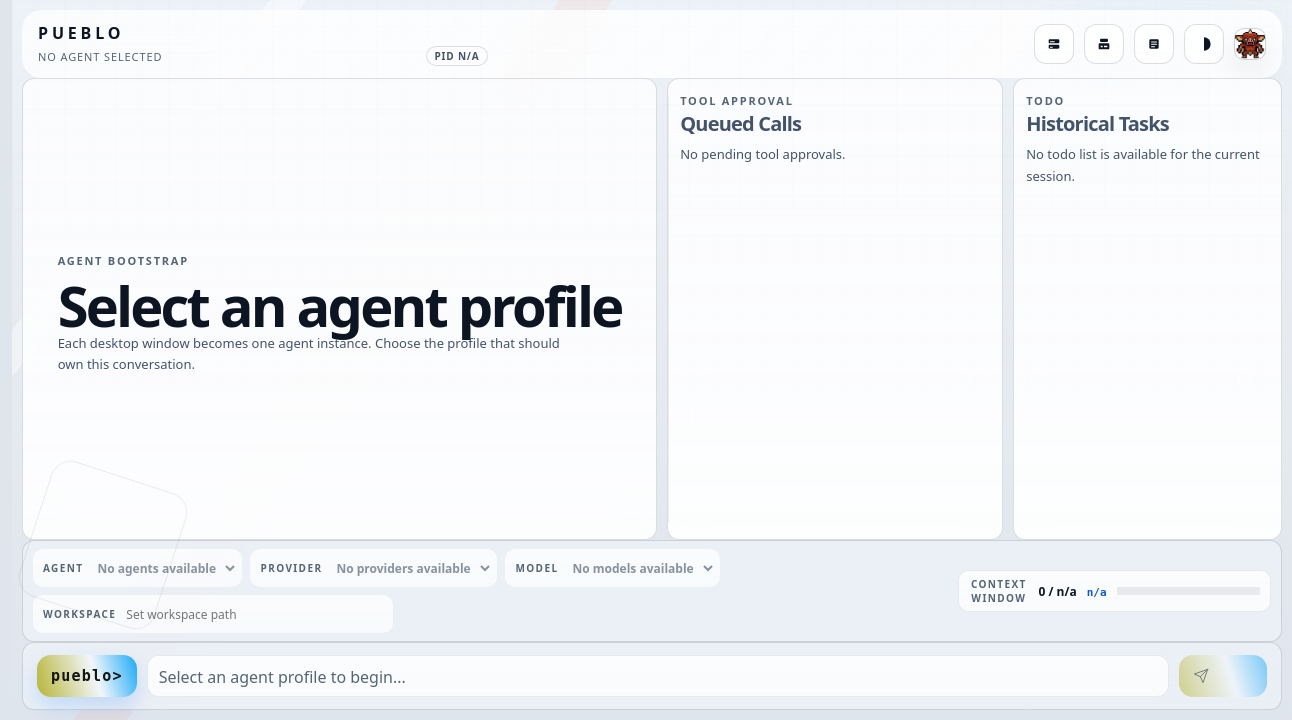
it: Desktop Renderer › lets the user close and reopen the session sidebar from the top toolbar
Click the button named "Show session sidebar" at point(1054, 44), box [1034, 24, 1074, 64]
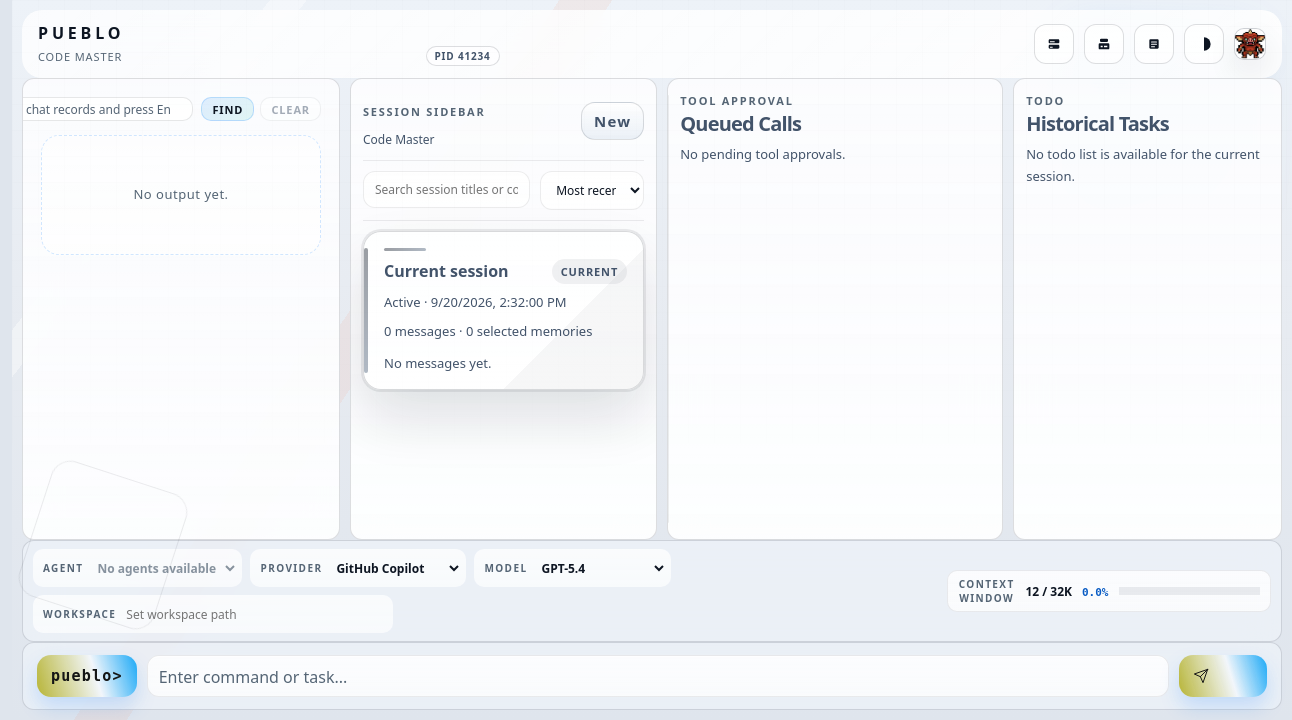
Check: the heading "Current session" is shown, box [384, 260, 509, 282]
Click the button named "Hide session sidebar" at point(1054, 44), box [1034, 24, 1074, 64]
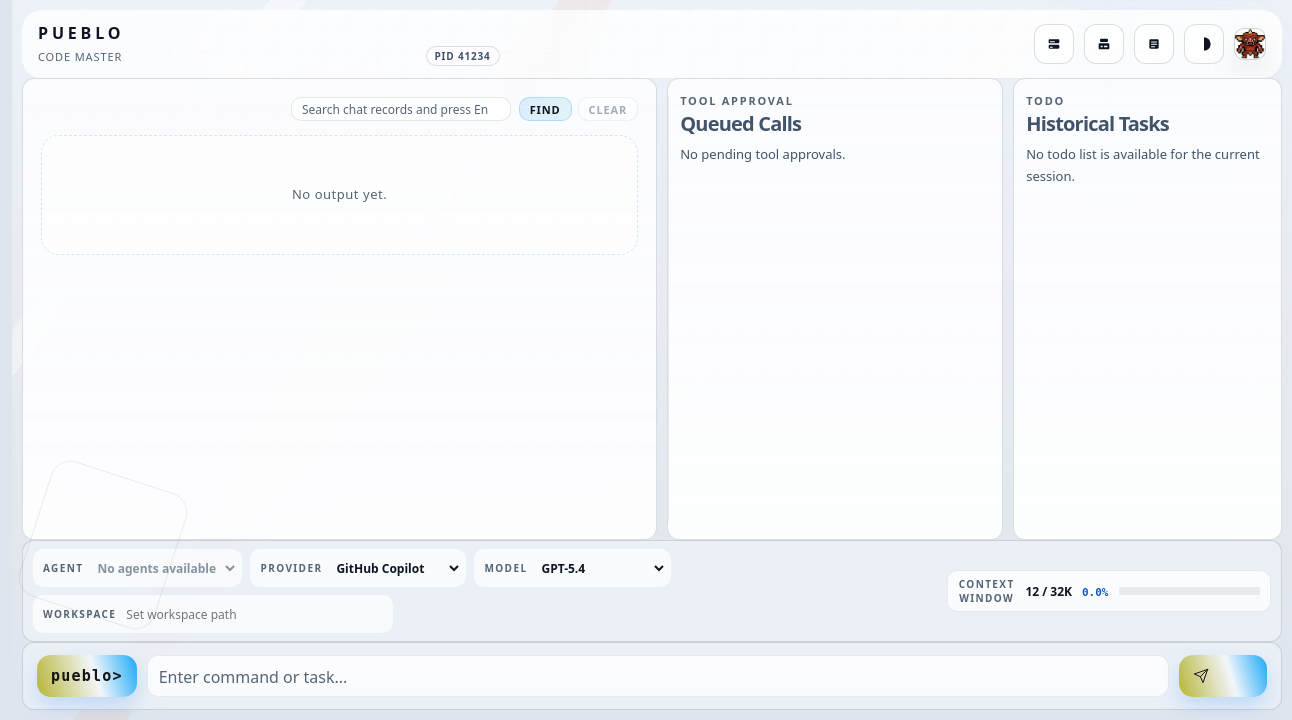
Click the button named "Show session sidebar" at point(1054, 44), box [1034, 24, 1074, 64]
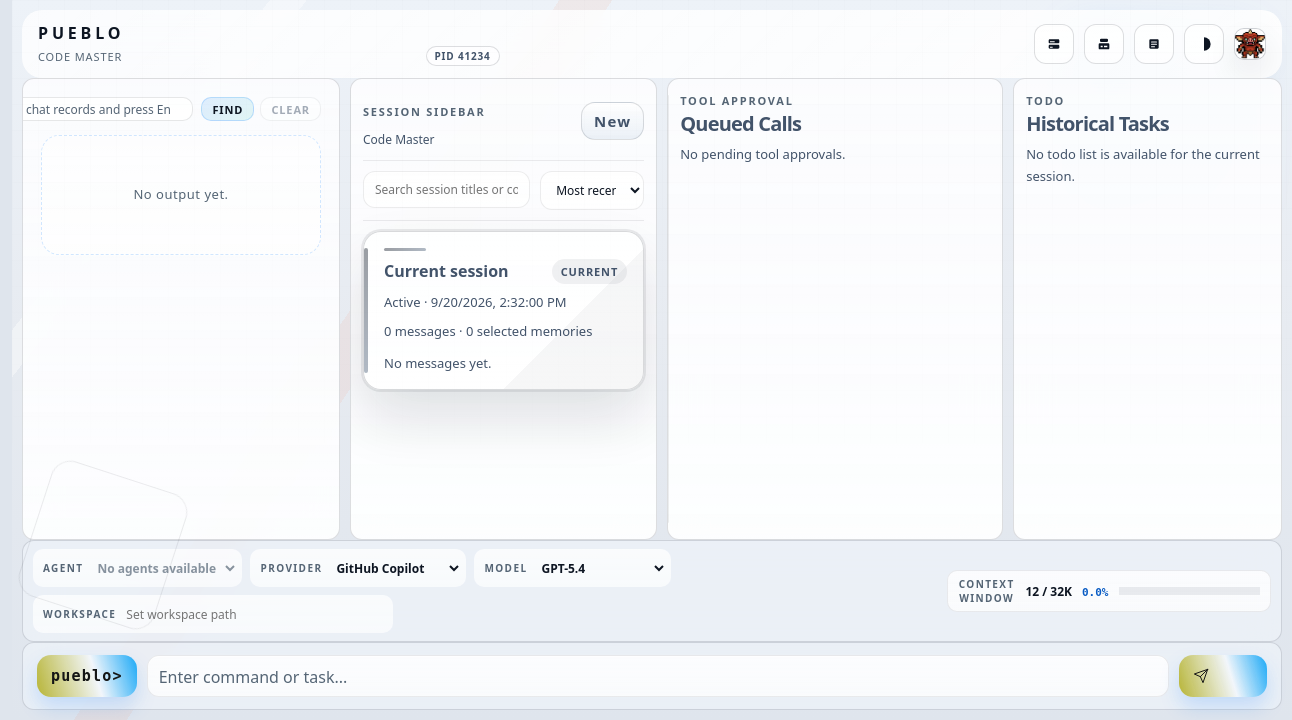
Check: the heading "Current session" is shown, box [384, 260, 509, 282]
